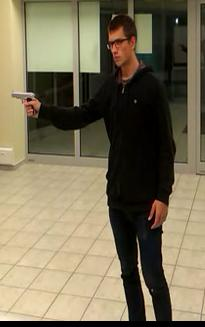pistol: (10, 90, 37, 117)
